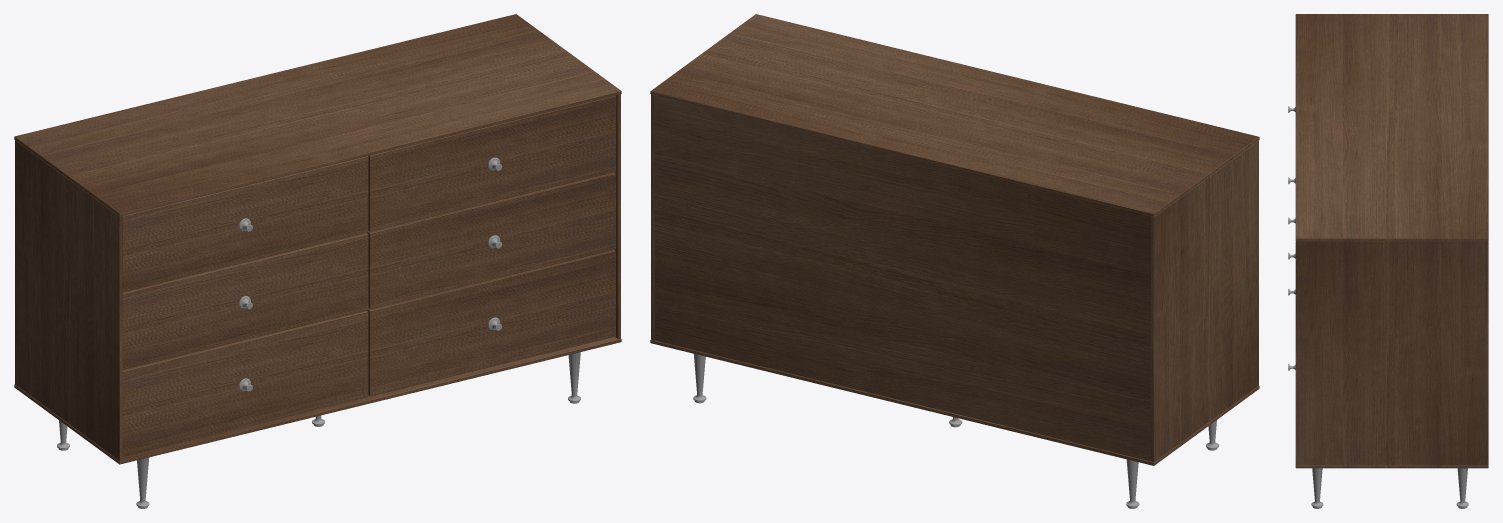
Rendered from ADIB02292.glb.
The picture shows the model from 3 angles, left to right: view 1: azimuth 30°, elevation 25°; view 2: azimuth 150°, elevation 25°; view 3: azimuth 270°, elevation 25°; orthographic projection. The views are drawn at different scales.
Visible parts, largest first — view 1: BP_ADIB02292; view 2: BP_ADIB02292; view 3: BP_ADIB02292.
Boxes of the visible parts, x1=… form: BP_ADIB02292: x1=14, y1=14, x2=621, y2=508; BP_ADIB02292: x1=650, y1=14, x2=1259, y2=508; BP_ADIB02292: x1=1288, y1=14, x2=1488, y2=508.
Size of the model in its own units: 1.38 by 0.8173 by 0.521.
Materials: 2 (1 with a texture image).
